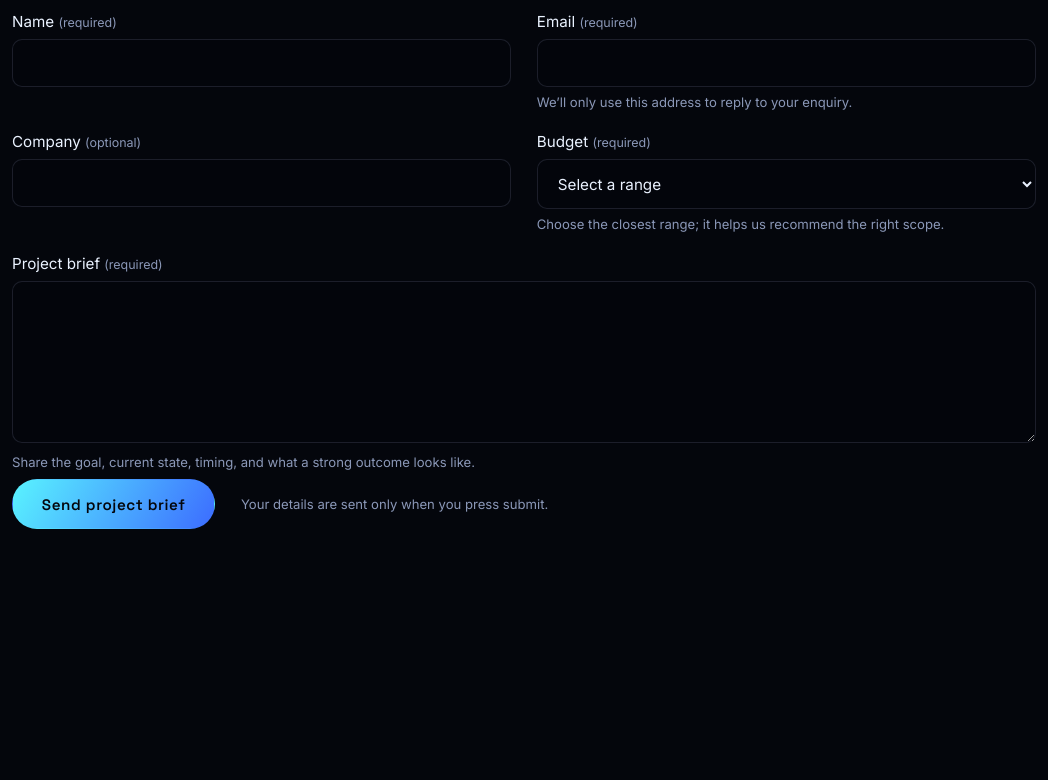
Test case: ContactForm error ids › points aria-describedby at the error ids it actually renders
Click the button "Send project brief" at (114, 504), box [12,479,215,529]
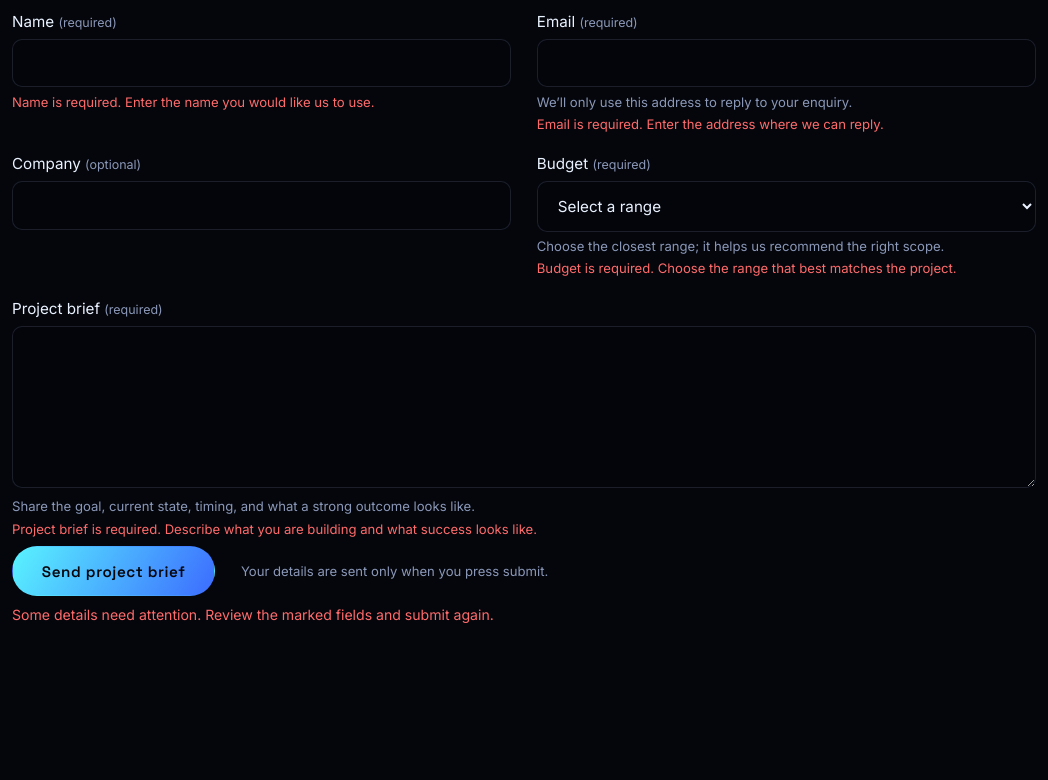
Expected: the text with id "home-name-error" shows "Name is required", [12,94,374,110]
